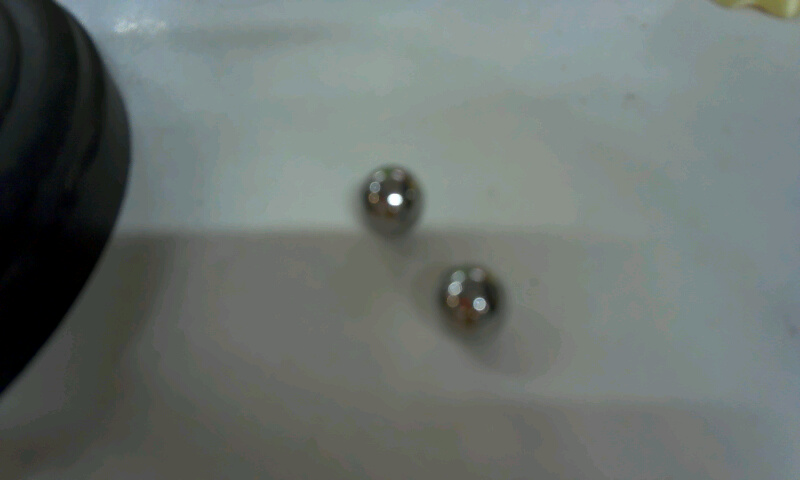steelball: (428, 264, 527, 356), (351, 157, 442, 248)
